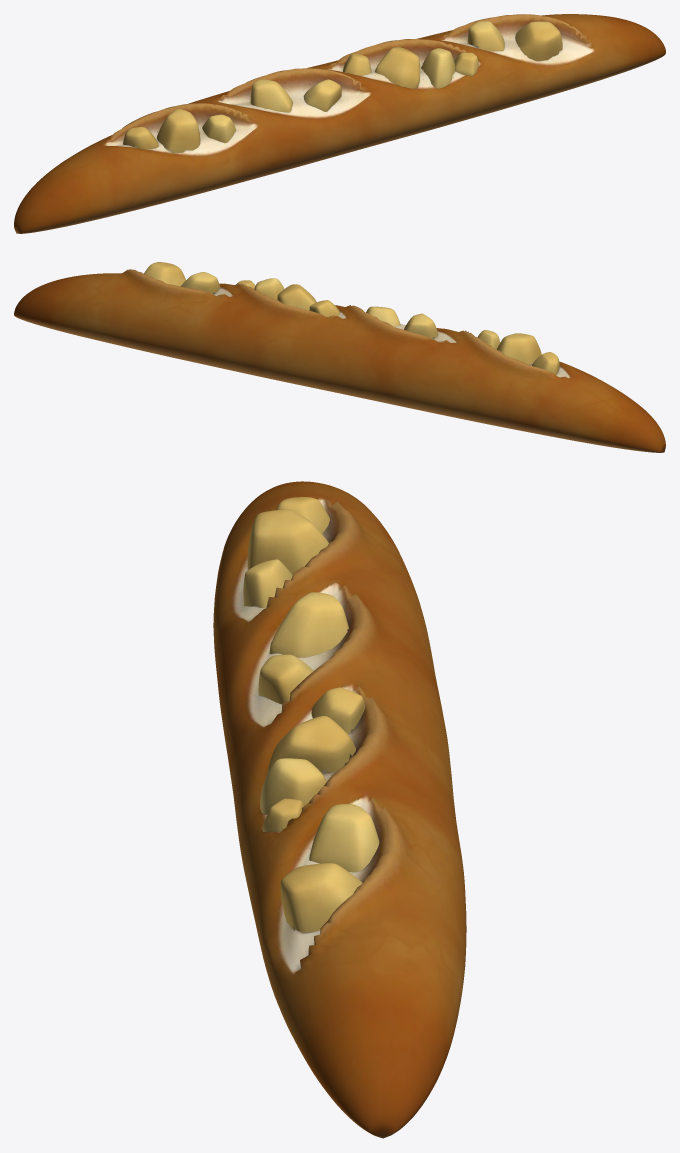
Rendered from baguette--chestnut-piece.glb.
The picture shows the model from 3 angles, top to bottom: view 1: azimuth 30°, elevation 25°; view 2: azimuth 150°, elevation 25°; view 3: azimuth 270°, elevation 25°; orthographic projection. The views are drawn at different scales.
Visible parts, largest first — view 1: baguette_chestnut-piece; view 2: baguette_chestnut-piece; view 3: baguette_chestnut-piece.
Boxes of the visible parts, x1=… form: baguette_chestnut-piece: x1=14, y1=14, x2=665, y2=233; baguette_chestnut-piece: x1=14, y1=262, x2=665, y2=452; baguette_chestnut-piece: x1=213, y1=481, x2=466, y2=1138.
Size of the model in its own units: 0.9982 by 0.1223 by 0.1743.
Materials: 1 (1 with a texture image).
